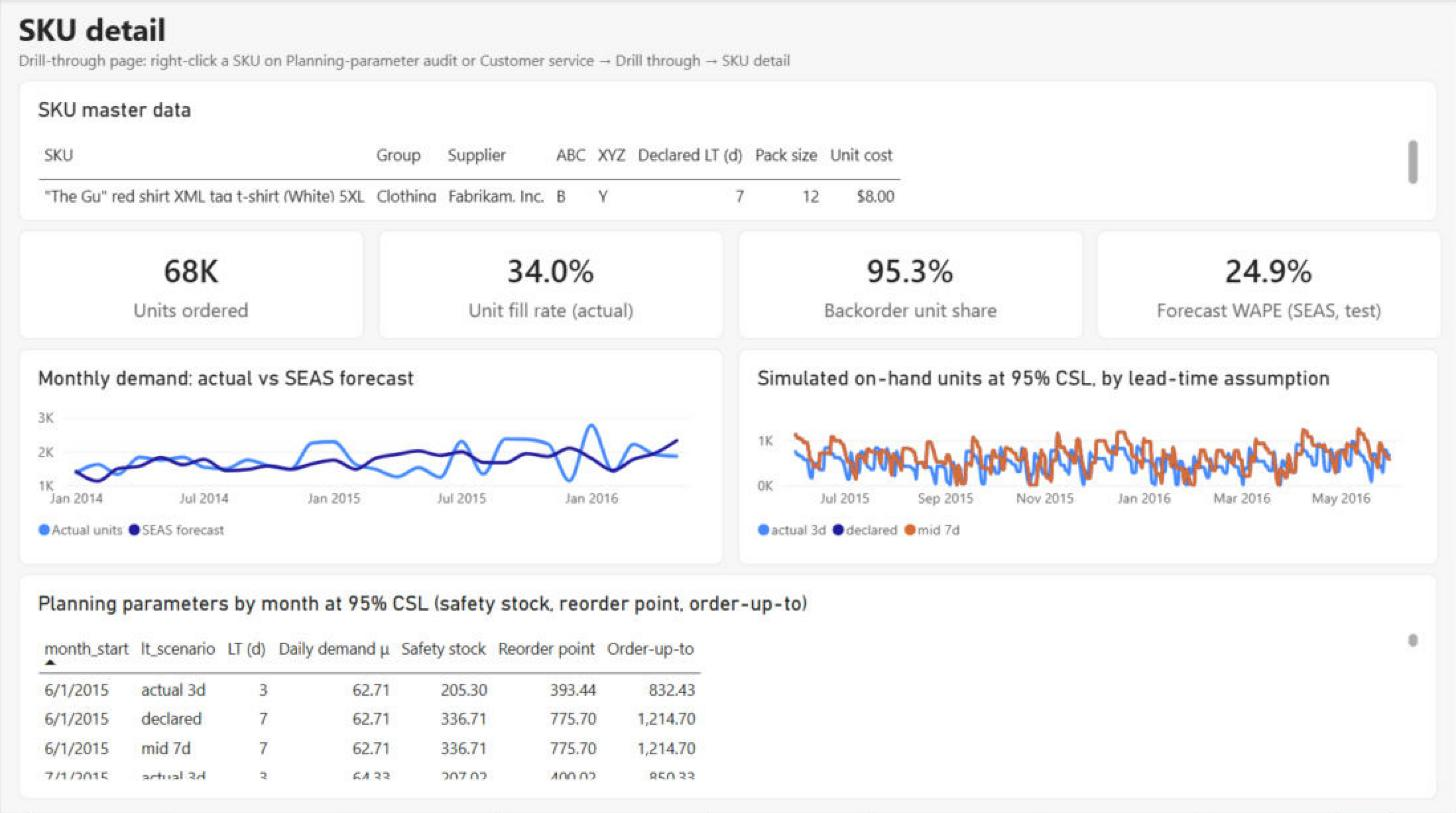

The dashboard page shown, as its layout file describes it:
{"tool":"powerbi","page":{"name":"SKU detail","canvas":[1280,720],"ordinal":7},"visuals":[{"type":"textbox","box":[16,8,1248,56],"z":1000},{"type":"tableEx","title":"SKU master data","fields":{"Values":["Stock Item.stock_item_name","Stock Item.primary_stock_group","Stock Item.supplier_name","Stock Item.abc_class","Stock Item.xyz_class","Max(Stock Item.declared_lead_time_days)","Max(Stock Item.quantity_per_outer)","Max(Stock Item.last_cost_price)"]},"box":[16,72,1248,124],"z":2000},{"type":"card","title":"Units ordered","fields":{"Values":["Order Line.Units Ordered"]},"box":[16,204,304,96],"z":3000},{"type":"card","title":"Unit fill rate (actual)","fields":{"Values":["Order Line.Unit Fill Rate"]},"box":[332,204,304,96],"z":4000},{"type":"card","title":"Backorder unit share","fields":{"Values":["Order Line.Backorder Unit Share"]},"box":[648,204,304,96],"z":5000},{"type":"card","title":"Forecast WAPE (SEAS, test)","fields":{"Values":["Forecast.WAPE"]},"box":[964,204,304,96],"z":6000},{"type":"lineChart","title":"Monthly demand: actual vs SEAS forecast","fields":{"Category":["Date.month_start"],"Y":["Forecast.Actual Units (fc)","Forecast.Forecast Units"]},"box":[16,308,620,190],"z":7000},{"type":"lineChart","title":"Simulated on-hand units at 95% CSL, by lead-time assumption","fields":{"Category":["Date.date"],"Series":["Scenario.lt_scenario"],"Y":["Sum(Simulation.on_hand_end)"]},"box":[648,308,616,190],"z":8000},{"type":"tableEx","title":"Planning parameters by month at 95% CSL (safety stock, reorder point, order-up-to)","fields":{"Values":["Policy Parameters.month_start","Scenario.lt_scenario","Max(Policy Parameters.lt_days)","Max(Policy Parameters.mu_d)","Max(Policy Parameters.safety_stock)","Max(Policy Parameters.reorder_point)","Max(Policy Parameters.order_up_to)"]},"box":[16,506,1248,198],"z":9000}]}

Visuals, with their boxes in screenshot pixels (x1, y1, x2, y2), scaled from the page's 1280x720 canvas onto the 1456x813 screenshot:
textbox: 18,9,1438,72
"SKU master data" tableEx: 18,81,1438,221
"Units ordered" card: 18,230,364,339
"Unit fill rate (actual)" card: 378,230,723,339
"Backorder unit share" card: 737,230,1083,339
"Forecast WAPE (SEAS, test)" card: 1097,230,1442,339
"Monthly demand: actual vs SEAS forecast" lineChart: 18,348,723,562
"Simulated on-hand units at 95% CSL, by lead-time assumption" lineChart: 737,348,1438,562
"Planning parameters by month at 95% CSL (safety stock, reorder point, order-up-to)" tableEx: 18,571,1438,795
